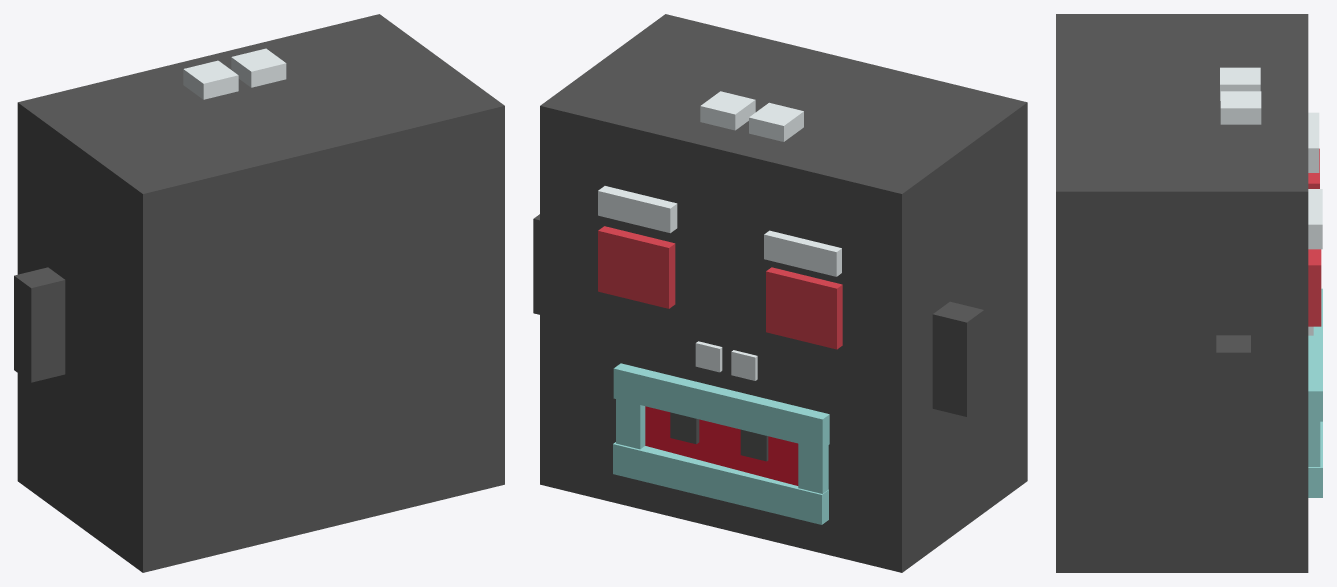
File: zombie _negro.fbx
3 renders of one model, left to right at view 1: azimuth 30°, elevation 25°; view 2: azimuth 150°, elevation 25°; view 3: azimuth 270°, elevation 25°, orthographic.
Visible parts, largest first — view 1: Plano; view 2: Plano; view 3: Plano.
Boxes of the visible parts, bbox=[...] form: Plano: bbox=[14, 14, 504, 572]; Plano: bbox=[533, 14, 1027, 572]; Plano: bbox=[1056, 14, 1322, 572].
Bounding box in the file's own units: 238 × 208 × 127.
